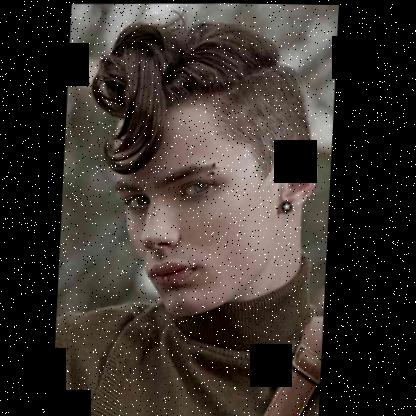Male: (101, 92, 326, 316)
